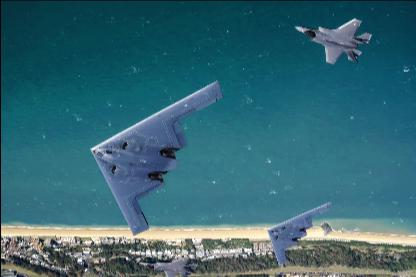B1: (89, 80, 222, 236), (266, 200, 330, 266)
F22: (294, 18, 370, 64), (137, 256, 199, 276)
